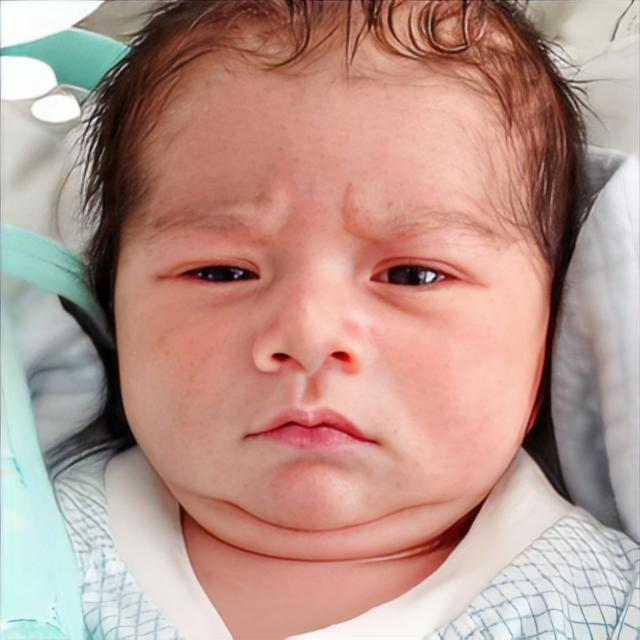sad: (110, 34, 567, 536)
